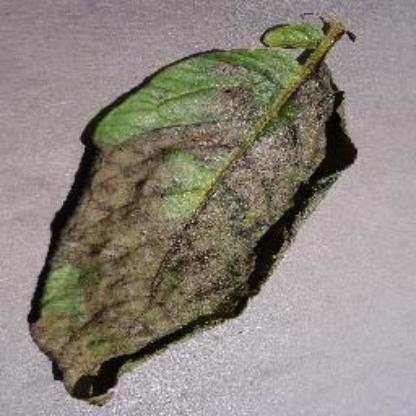Late-Blight: (26, 6, 364, 402)
